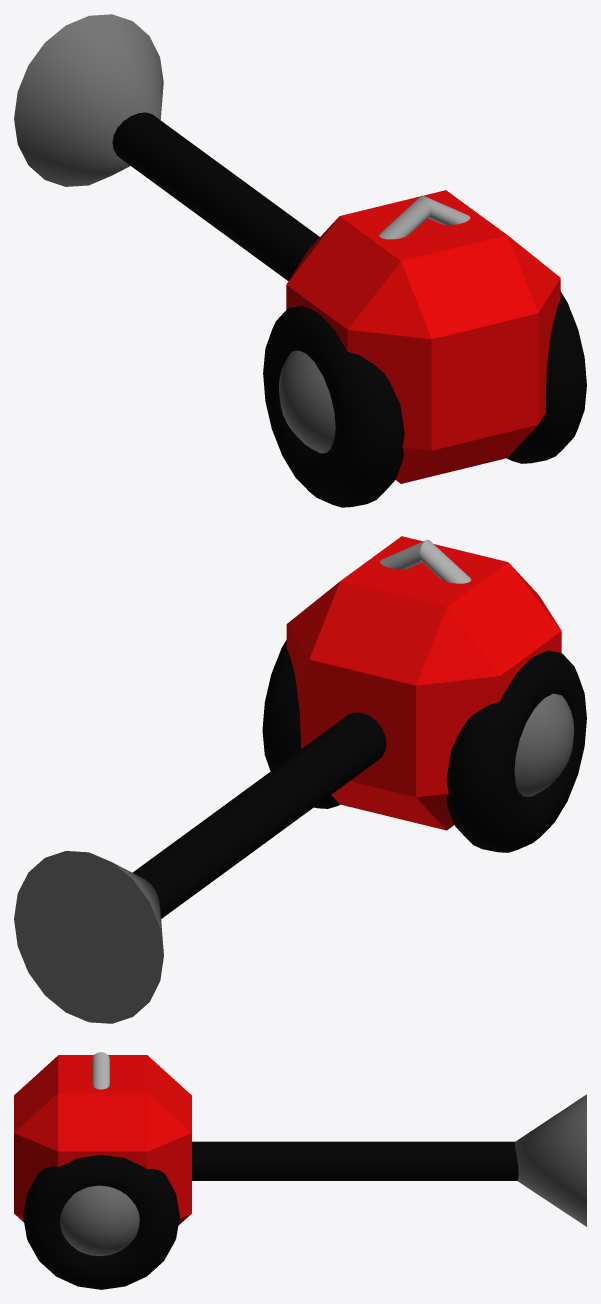
Rendered from Weapon_Colour.fbx.
3 renders of one model, top to bottom at view 1: azimuth 30°, elevation 25°; view 2: azimuth 150°, elevation 25°; view 3: azimuth 270°, elevation 25°, orthographic. The views are drawn at different scales.
Visible parts, largest first — view 1: pasted__pTorus1; view 2: pasted__pTorus1; view 3: pasted__pTorus1.
Boxes of the visible parts, bbox=[...] form: pasted__pTorus1: bbox=[14, 14, 586, 507]; pasted__pTorus1: bbox=[14, 536, 586, 1023]; pasted__pTorus1: bbox=[14, 1052, 586, 1289].
Size of the model in its own units: 0.4523 by 0.433 by 1.1.
